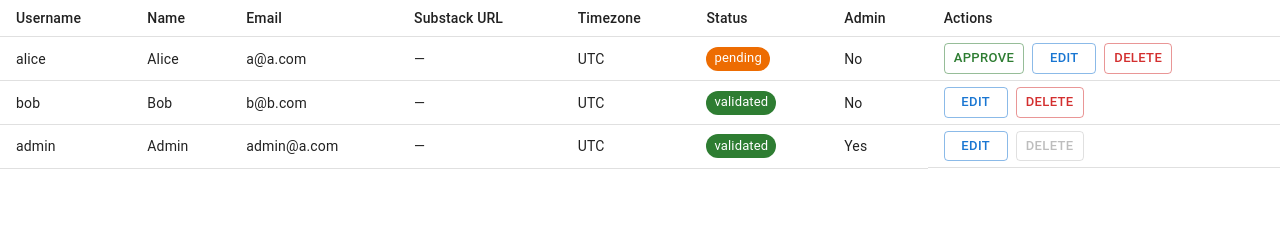
Test: UserTable › shows error alert when Delete returns 4xx
Expected: the text "alice" is shown, [0, 36, 131, 81]
Click the button "Delete" in the row of "b@b.com".
click(1050, 102)  # box [1016, 87, 1084, 118]
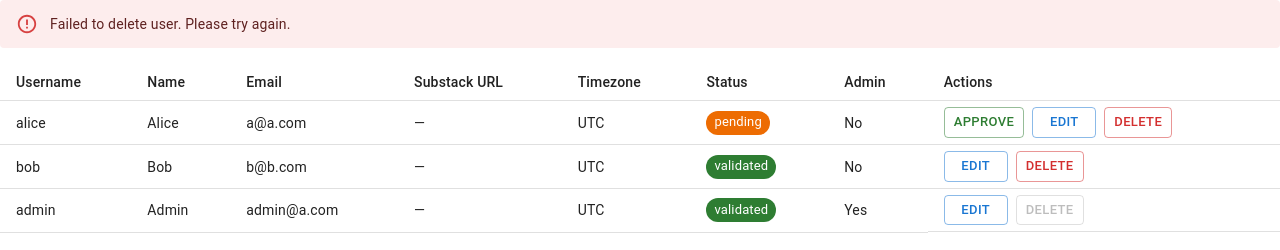
Expected: the text "Failed to delete user. Please try again." is shown, [50, 16, 290, 32]
